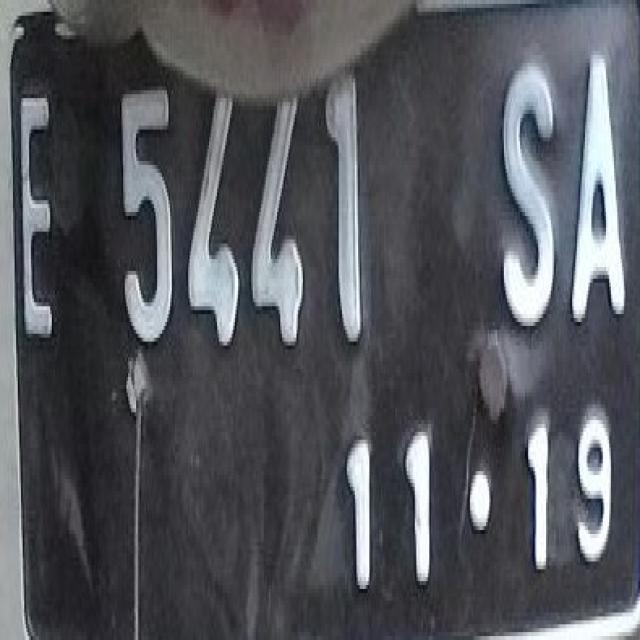plate: (6, 18, 636, 635)
